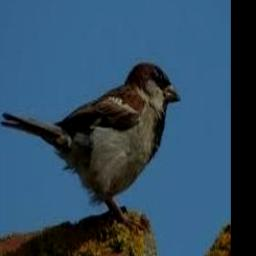Sparrow: (0, 62, 180, 232)
